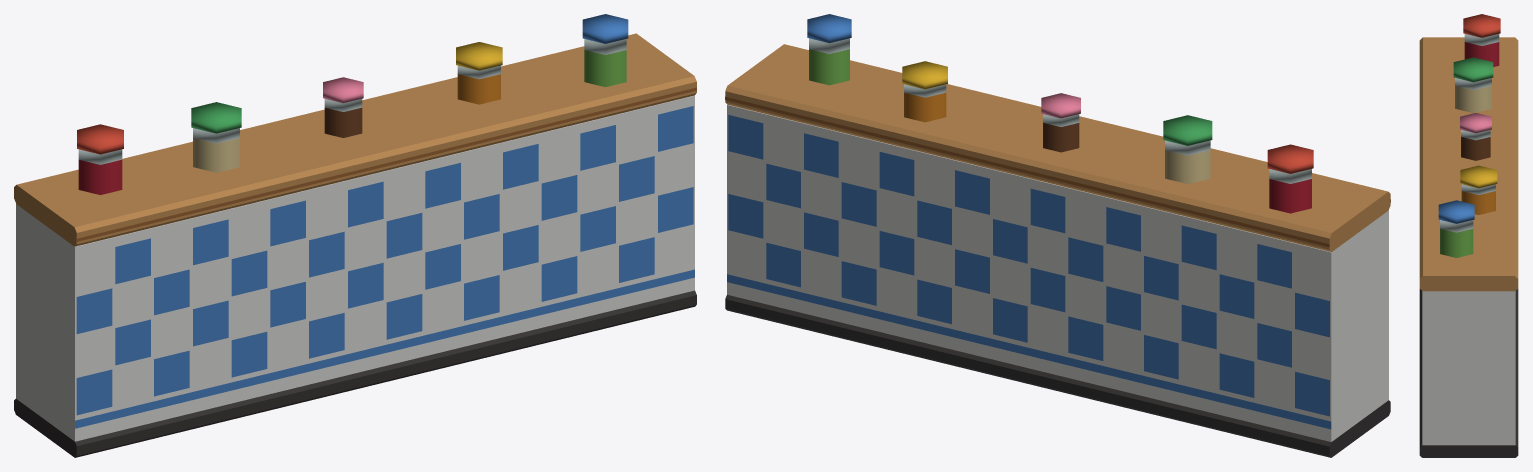
The model's file is kitchen-border.glb.
3 renders of one model, left to right at view 1: azimuth 30°, elevation 25°; view 2: azimuth 150°, elevation 25°; view 3: azimuth 270°, elevation 25°, orthographic. The views are drawn at different scales.
Parts seen in each view (by area): view 1: kitchen-border; view 2: kitchen-border; view 3: kitchen-border.
Boxes of the visible parts, box(x1,y1,x2,y2) form: kitchen-border: box(14, 14, 696, 457); kitchen-border: box(725, 14, 1390, 457); kitchen-border: box(1419, 14, 1518, 457).
Size of the model in its own units: 4 by 1.74 by 0.702.
